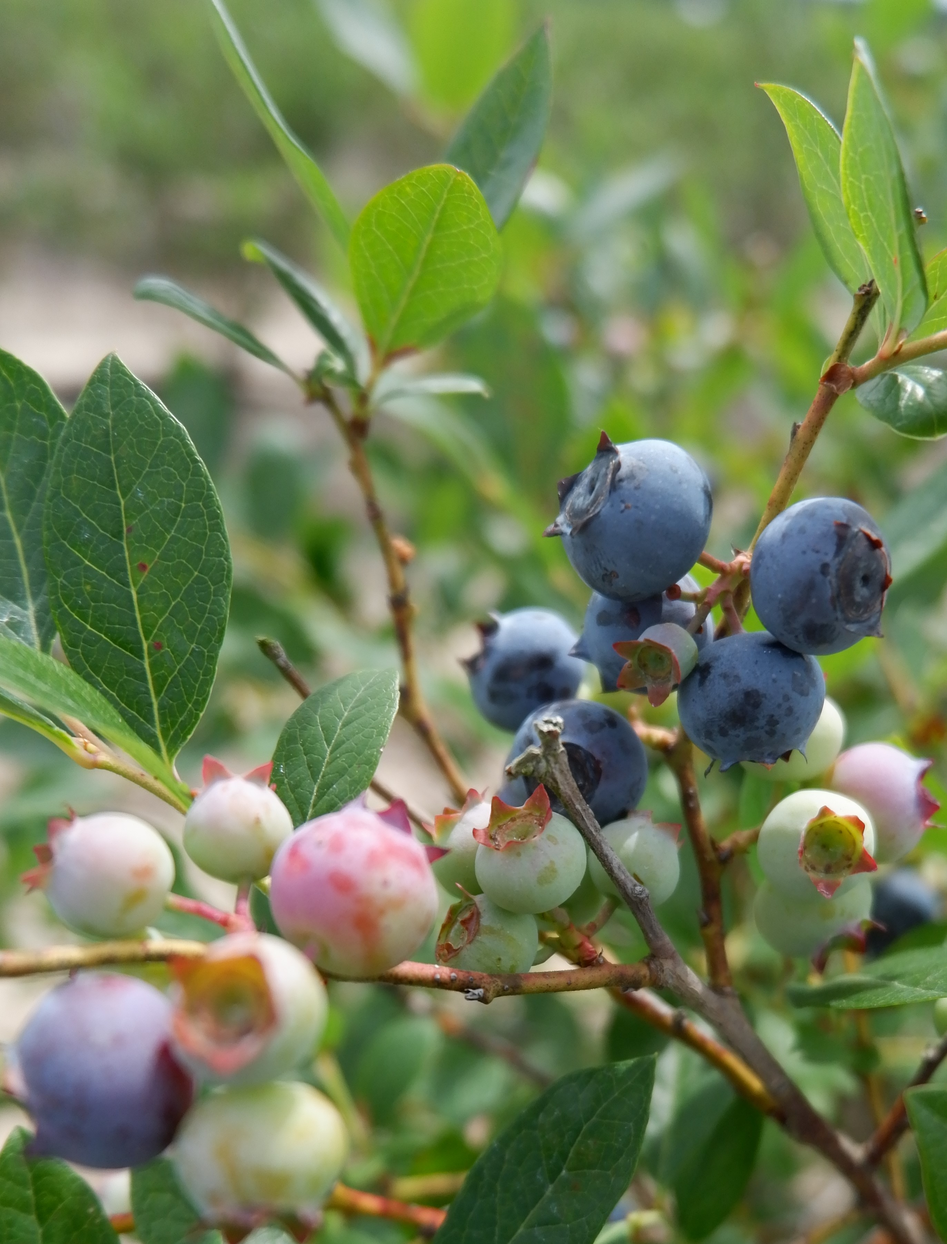Immature: (272, 808, 432, 979), (175, 1087, 344, 1231), (170, 938, 323, 1084), (30, 814, 169, 938), (818, 739, 939, 865), (476, 791, 583, 914), (185, 766, 287, 882), (761, 795, 876, 893), (758, 881, 872, 966), (590, 811, 684, 907), (434, 894, 535, 976), (423, 790, 493, 894), (761, 697, 844, 779), (621, 626, 697, 702), (552, 872, 612, 925)
Mature: (17, 975, 189, 1166), (554, 433, 708, 602), (499, 699, 650, 841), (752, 499, 891, 651), (681, 636, 823, 766), (567, 575, 714, 690), (465, 613, 591, 728)
